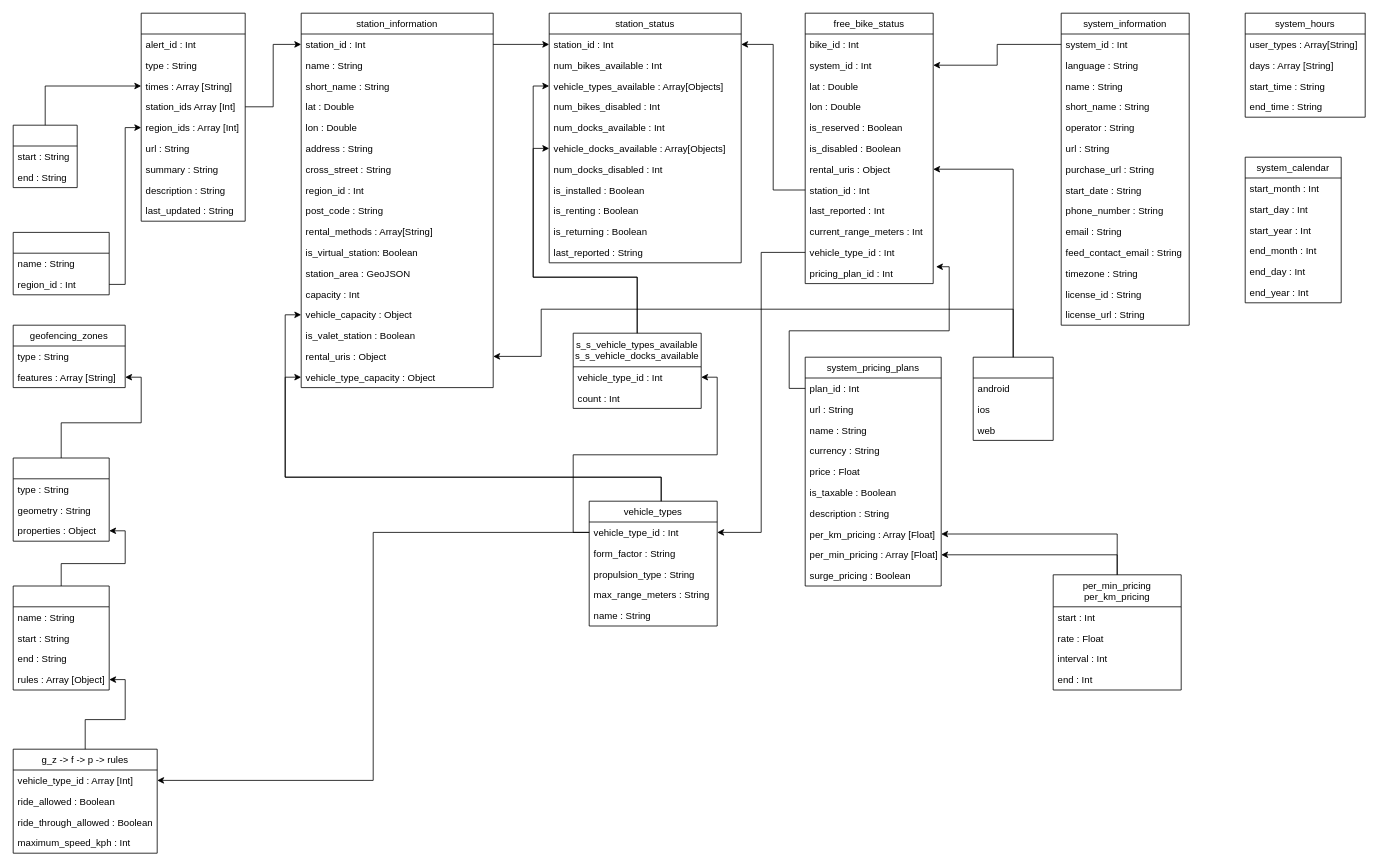
The diagram is 1378 pixels wide and 866 high, and some of its shapes have lost their labels. Here are the shapes that lost their labels. From the top down, the box of each, then its label:
(140, 12, 245, 221): system_alerts
(12, 124, 77, 188): s_a_times
(12, 232, 109, 295): system_regions
(972, 356, 1053, 440): rental_uris
(12, 457, 109, 541): g_z_features
(12, 585, 109, 690): g_z_f_properties
